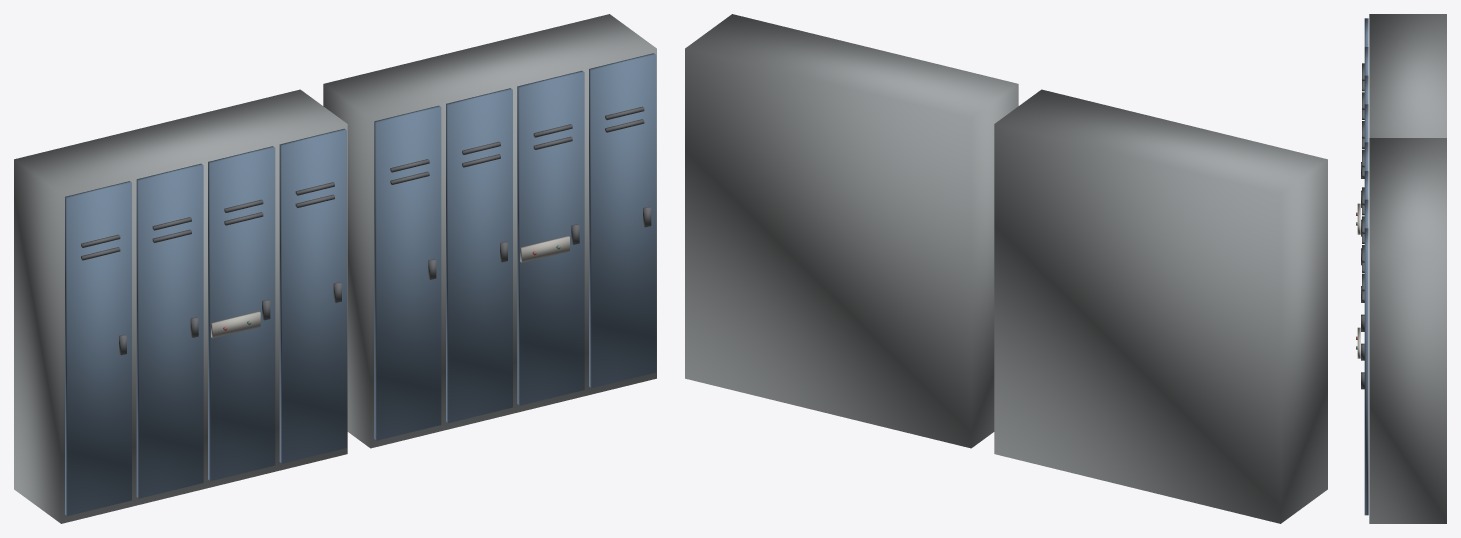
File: locker_bank__cluster.glb
The picture shows the model from 3 angles, left to right: view 1: azimuth 30°, elevation 25°; view 2: azimuth 150°, elevation 25°; view 3: azimuth 270°, elevation 25°; orthographic projection. The views are drawn at different scales.
Visible parts, largest first — view 1: world; view 2: world; view 3: world.
Boxes of the visible parts, <box> form: world: <box>14,14,656,523</box>; world: <box>685,14,1327,523</box>; world: <box>1356,14,1446,523</box>.
Bounding box in the file's own units: 3.49 × 1.85 × 0.561.
